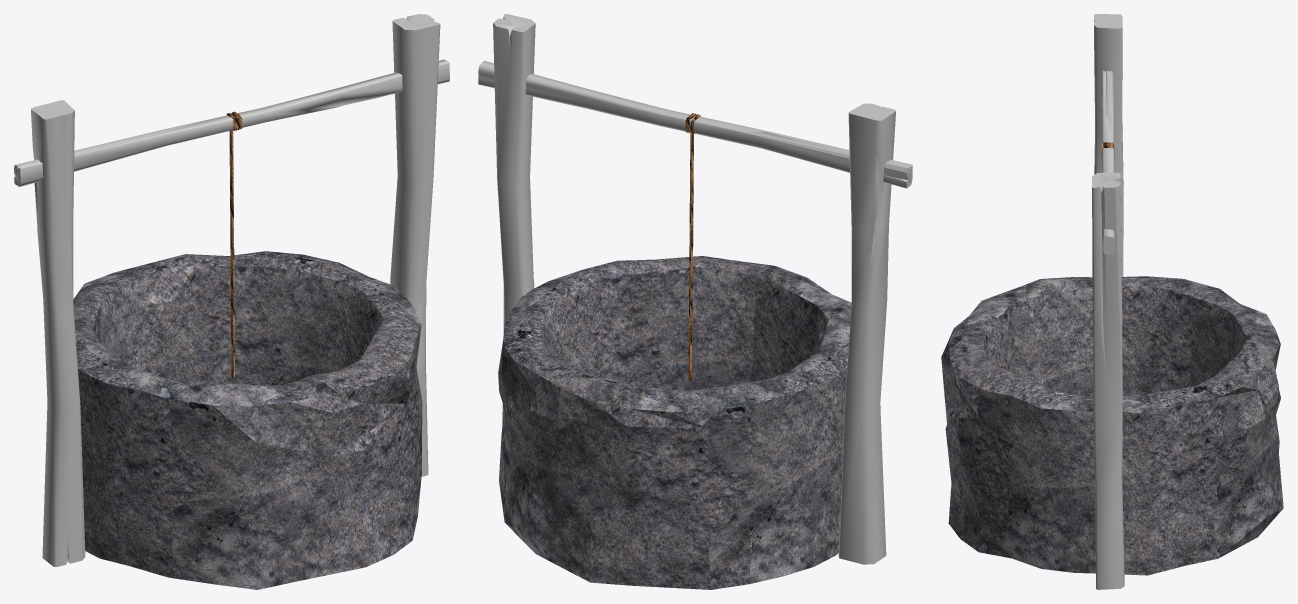
Rendered from PozoPiedra.fbx.
The picture shows the model from 3 angles, left to right: view 1: azimuth 30°, elevation 25°; view 2: azimuth 150°, elevation 25°; view 3: azimuth 270°, elevation 25°; orthographic projection. The views are drawn at different scales.
Parts seen in each view (by area): view 1: Cylinder009; view 2: Cylinder009; view 3: Cylinder009.
Boxes of the visible parts, x1,y1,x2,y2 form: Cylinder009: (14, 14, 449, 589); Cylinder009: (478, 14, 912, 589); Cylinder009: (941, 14, 1283, 589).
Bounding box in the file's own units: 0.4662 × 0.4662 × 0.3556.
